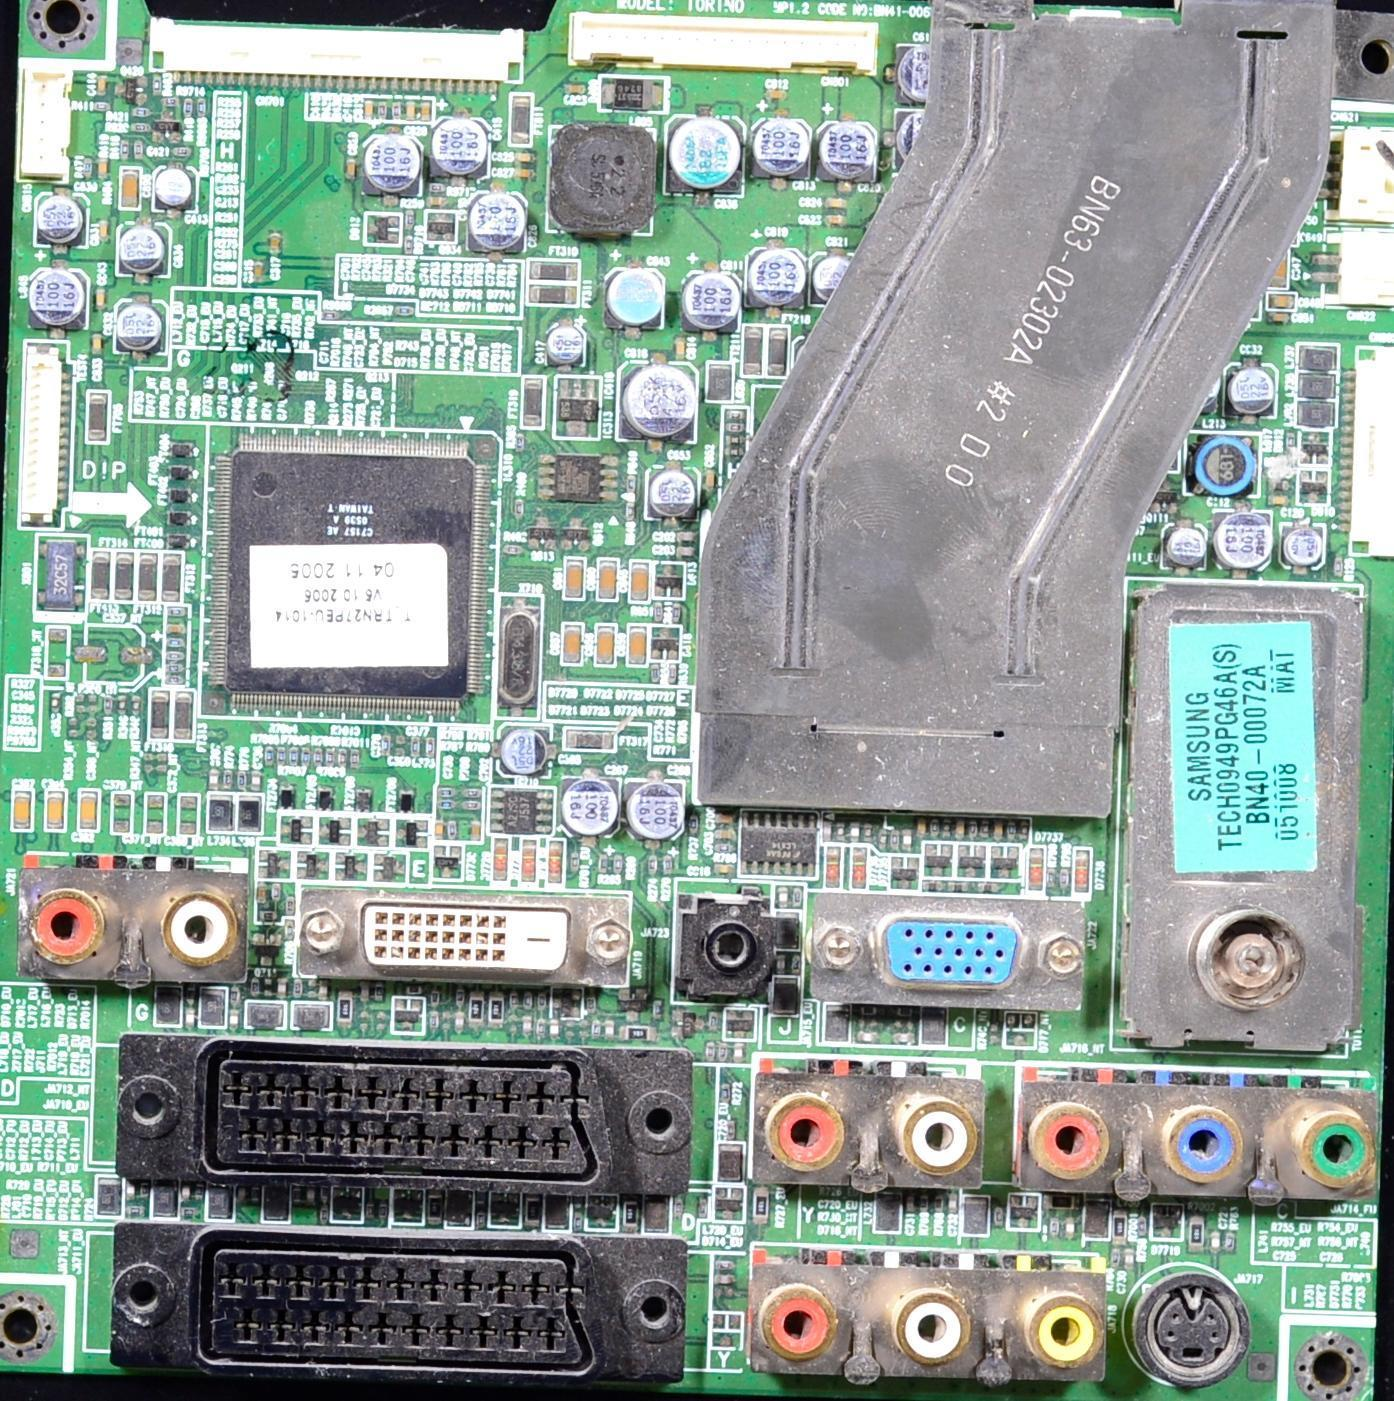Capacitor: (674, 118, 734, 186), (626, 369, 693, 429), (614, 269, 666, 321), (367, 138, 417, 189), (474, 196, 524, 246), (441, 121, 486, 176), (1221, 514, 1269, 564), (637, 786, 687, 832), (566, 780, 614, 825), (828, 128, 874, 174), (758, 255, 803, 301), (506, 727, 551, 771), (762, 120, 805, 167), (1229, 368, 1274, 412), (691, 275, 733, 320), (40, 198, 81, 241), (36, 273, 77, 317), (124, 229, 163, 268), (655, 471, 694, 511), (158, 169, 191, 208), (122, 302, 154, 342), (1170, 525, 1201, 566), (1288, 525, 1317, 560), (549, 329, 581, 355), (121, 166, 140, 207), (819, 250, 836, 295), (563, 626, 580, 660), (18, 789, 32, 828), (566, 562, 582, 594), (81, 792, 94, 826), (599, 626, 611, 659), (50, 792, 61, 828), (629, 630, 642, 661), (602, 566, 616, 594), (1273, 257, 1286, 286), (1272, 487, 1288, 508), (1270, 290, 1293, 305), (632, 571, 644, 598), (77, 648, 95, 661), (1270, 311, 1292, 322), (827, 194, 844, 207), (1314, 255, 1339, 263), (270, 233, 280, 254), (1315, 272, 1336, 281), (126, 649, 147, 658), (382, 733, 390, 753), (421, 100, 430, 119), (95, 286, 104, 305), (565, 84, 585, 93), (512, 155, 534, 162), (823, 214, 840, 224), (768, 92, 787, 99), (426, 195, 441, 205), (717, 865, 731, 875), (347, 159, 355, 176), (411, 738, 420, 754), (365, 98, 371, 119), (950, 1196, 957, 1212), (676, 338, 684, 355), (716, 829, 733, 837), (168, 623, 182, 632), (408, 98, 414, 123), (509, 168, 529, 175), (428, 738, 435, 753), (93, 336, 100, 354), (99, 76, 106, 94), (257, 259, 262, 281), (680, 534, 695, 541), (681, 547, 695, 554), (1211, 1233, 1218, 1248), (1127, 1252, 1134, 1267), (706, 471, 713, 484), (719, 816, 731, 822), (918, 818, 924, 832), (909, 1197, 914, 1212), (995, 822, 1001, 834), (99, 158, 105, 173), (958, 819, 963, 833), (473, 822, 478, 840), (435, 820, 441, 833)
IC: (227, 444, 482, 703), (745, 815, 810, 870), (548, 461, 608, 494), (562, 381, 597, 434), (498, 787, 541, 830), (606, 79, 654, 106)
Resistor: (427, 1191, 440, 1223), (757, 1188, 768, 1221), (1191, 1219, 1201, 1248), (626, 1201, 637, 1223), (340, 996, 348, 1019), (704, 1043, 715, 1061), (468, 996, 478, 1016), (919, 1195, 929, 1213), (52, 696, 62, 714), (1060, 870, 1069, 890), (672, 602, 680, 621), (1117, 1221, 1127, 1237), (629, 1028, 651, 1036), (393, 101, 401, 122), (119, 140, 128, 158), (326, 747, 335, 765), (598, 854, 606, 872), (733, 423, 748, 433), (492, 1000, 501, 1017), (133, 107, 149, 116), (198, 97, 206, 116), (396, 305, 411, 316), (160, 99, 178, 107), (210, 770, 219, 786), (461, 789, 478, 797), (726, 436, 741, 445), (301, 748, 310, 763), (185, 98, 192, 117), (1048, 868, 1055, 888), (237, 773, 245, 788), (91, 103, 109, 110), (936, 1193, 942, 1211), (727, 409, 741, 418), (728, 450, 740, 459), (663, 859, 671, 872), (462, 802, 476, 810), (153, 78, 161, 92), (84, 160, 90, 176), (1051, 1217, 1060, 1229), (718, 1047, 725, 1060), (723, 1082, 728, 1101), (278, 747, 285, 763), (352, 751, 360, 764), (132, 126, 149, 131), (1228, 1233, 1234, 1247), (405, 212, 411, 226), (118, 699, 124, 712), (225, 771, 231, 786), (320, 312, 332, 319), (439, 801, 451, 809), (265, 746, 270, 762), (291, 747, 296, 764), (652, 604, 659, 617), (170, 609, 183, 615), (931, 820, 937, 833), (653, 664, 659, 680), (649, 856, 654, 871), (1067, 1221, 1073, 1233), (170, 639, 181, 645), (339, 751, 346, 763), (616, 857, 623, 869), (1139, 1218, 1144, 1233), (670, 666, 675, 680), (133, 698, 138, 713), (315, 749, 321, 763), (945, 819, 950, 833), (719, 844, 733, 849), (169, 676, 181, 681), (105, 697, 110, 710), (1022, 822, 1027, 835), (1009, 824, 1015, 834), (136, 140, 140, 157), (168, 652, 180, 658), (168, 665, 180, 671), (971, 823, 976, 834), (983, 821, 988, 832), (440, 790, 450, 794), (1114, 1252, 1117, 1265), (381, 103, 383, 116), (407, 237, 410, 250)
Transistor: (531, 518, 558, 555), (653, 564, 683, 598), (672, 1012, 705, 1040), (282, 815, 312, 845), (116, 77, 148, 104), (1299, 473, 1329, 500), (653, 627, 679, 658), (993, 847, 1019, 878), (373, 852, 404, 878), (891, 857, 916, 887), (589, 1196, 612, 1228), (618, 991, 644, 1020), (1303, 433, 1329, 462), (960, 847, 985, 876), (300, 852, 330, 876), (336, 1187, 359, 1218), (370, 214, 396, 243), (925, 841, 948, 872), (717, 1187, 739, 1218), (320, 818, 347, 844), (490, 1195, 514, 1223), (429, 215, 455, 240), (564, 521, 589, 548), (158, 113, 180, 142), (396, 1004, 419, 1030), (1011, 1197, 1034, 1224), (362, 818, 390, 839), (434, 849, 457, 873), (262, 855, 287, 876), (398, 824, 425, 844), (727, 1009, 748, 1034), (338, 855, 364, 875)
